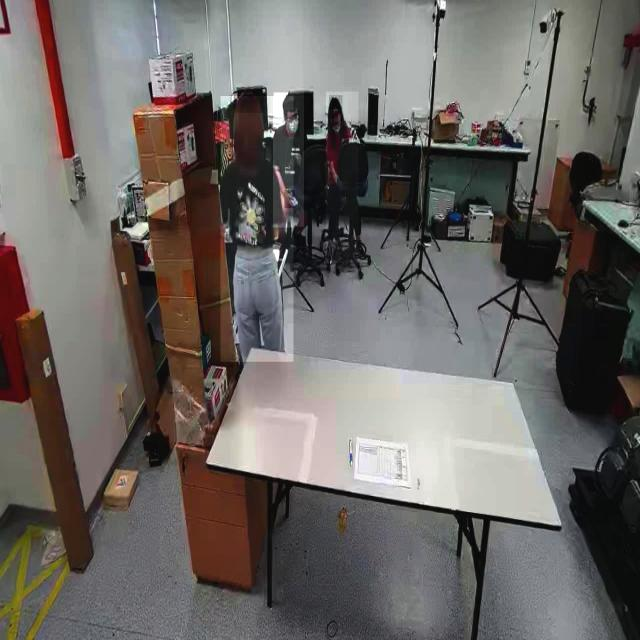face_mask: (286, 110, 300, 137)
face_nomask: (332, 111, 342, 127)
hand_noglove: (284, 190, 294, 209)
head_nohelmet: (233, 90, 264, 114), (283, 92, 300, 110), (328, 95, 342, 110)
person: (220, 96, 294, 363), (326, 92, 358, 264), (273, 92, 304, 228)
